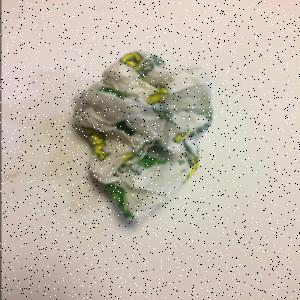Trash: (73, 51, 215, 225)
